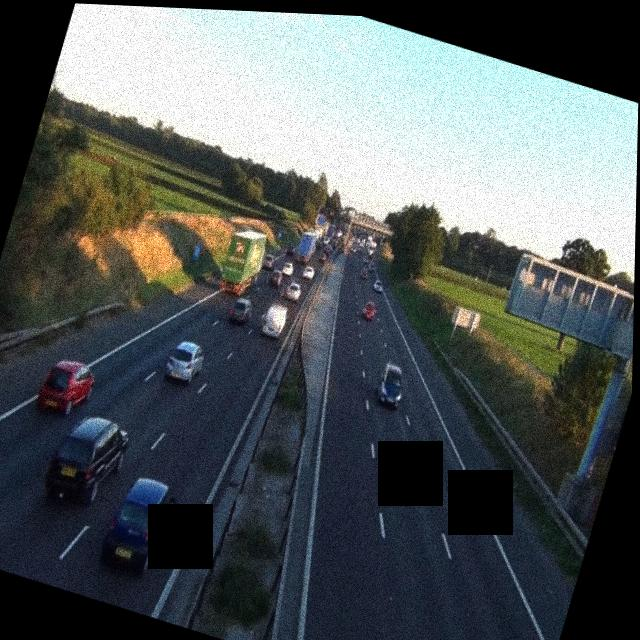car: (40, 404, 133, 514), (97, 470, 181, 580), (33, 352, 97, 422), (163, 337, 208, 388), (372, 359, 408, 409), (260, 301, 289, 339), (227, 293, 254, 326), (274, 272, 294, 295), (285, 279, 304, 303), (360, 299, 378, 321), (277, 259, 294, 280), (260, 253, 276, 274), (301, 263, 316, 281), (372, 276, 383, 291)
truck: (212, 216, 273, 298), (294, 229, 317, 261), (362, 236, 377, 259)
